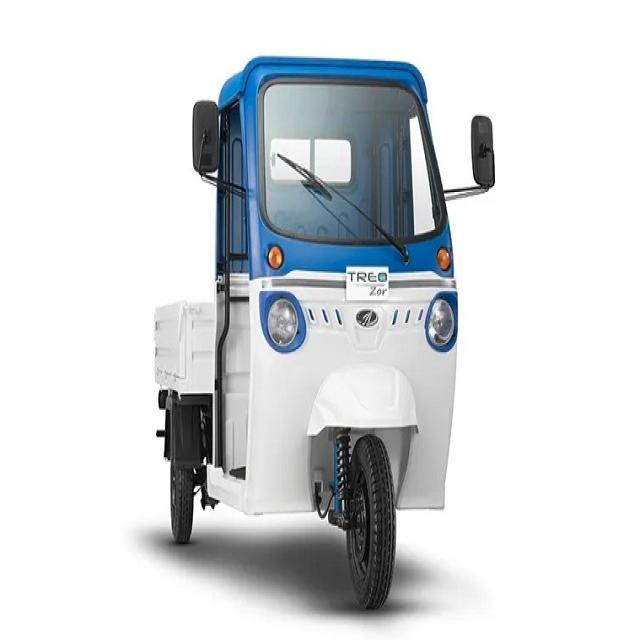autorickshaw: (155, 57, 459, 605)
